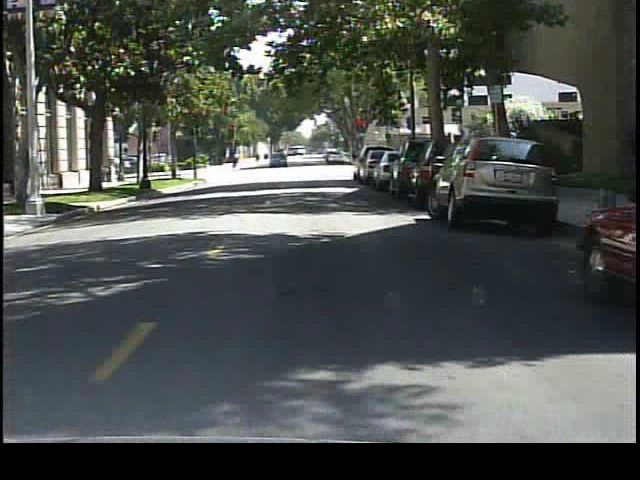person: (230, 143, 242, 168)
